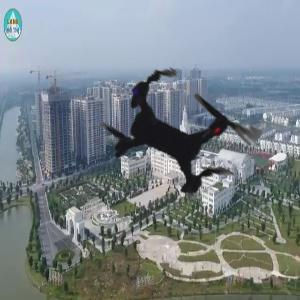drone: (61, 13, 297, 249)
